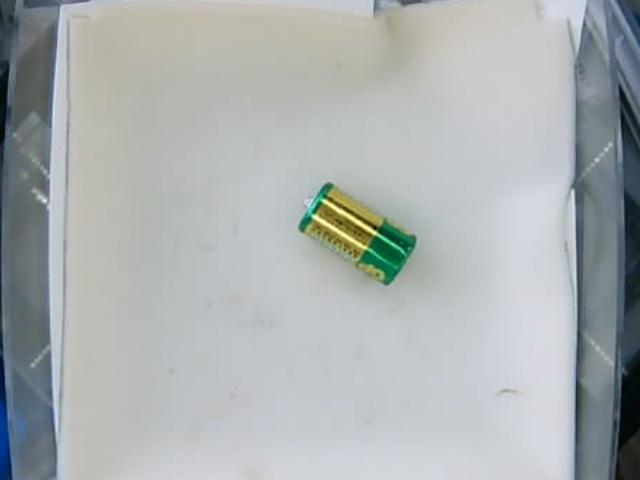Battery: (295, 180, 418, 287)
